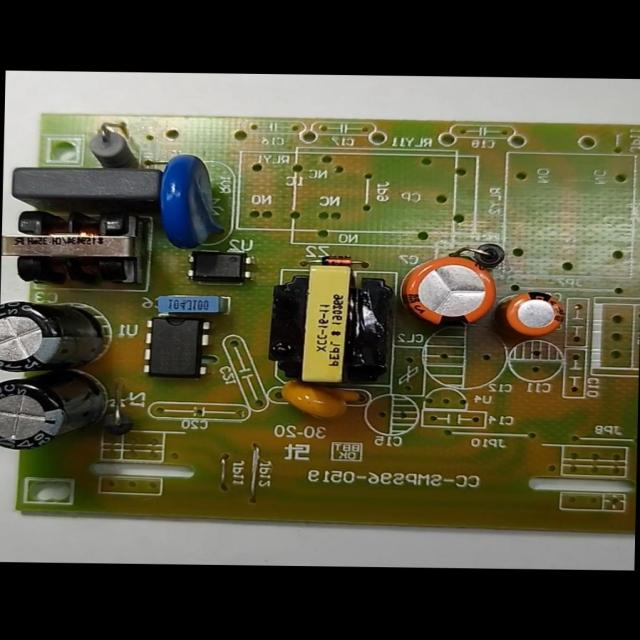Cap1: (396, 249, 503, 333)
Cap2: (499, 286, 573, 342)
Cap3: (0, 295, 99, 376)
Cap4: (0, 372, 92, 453)
MOSFET: (136, 307, 225, 387)
Mov: (146, 141, 232, 252)
Resistor: (75, 105, 142, 171)
Transformer: (264, 256, 405, 393), (1, 196, 158, 292)
